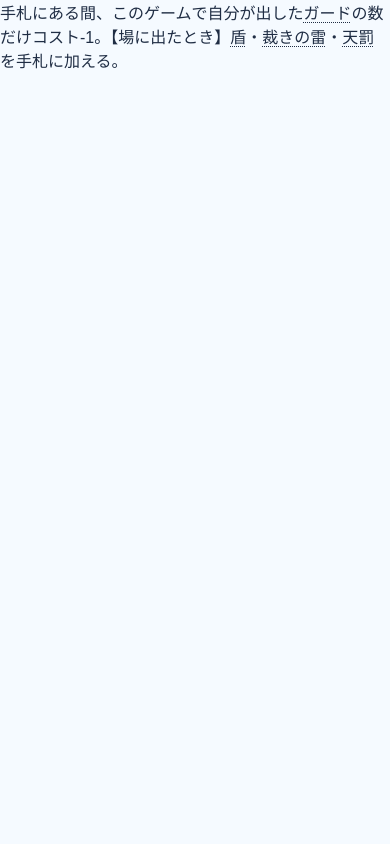
Test: トークンの名前 › 効果文のトークンの名前を押すと、そのカードの効果が開く
Click the button "裁きの雷". click: coordinates (294, 38)
box: [262,29,326,46]
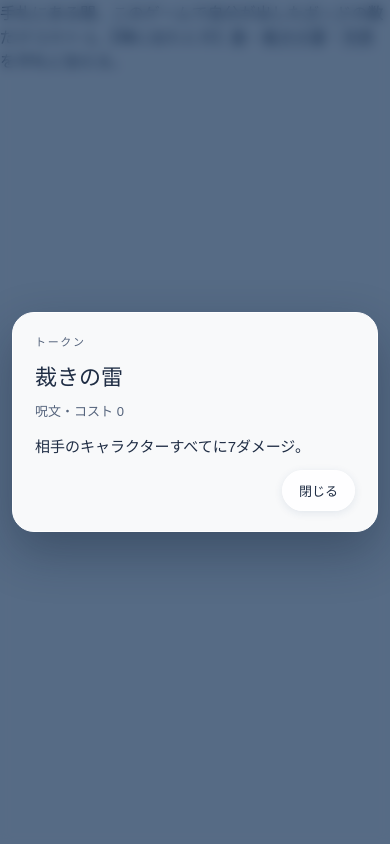
Now the dialog named "裁きの雷 の効果" shows "相手のキャラクターすべてに7ダメージ。", box [35,438,310,455]
